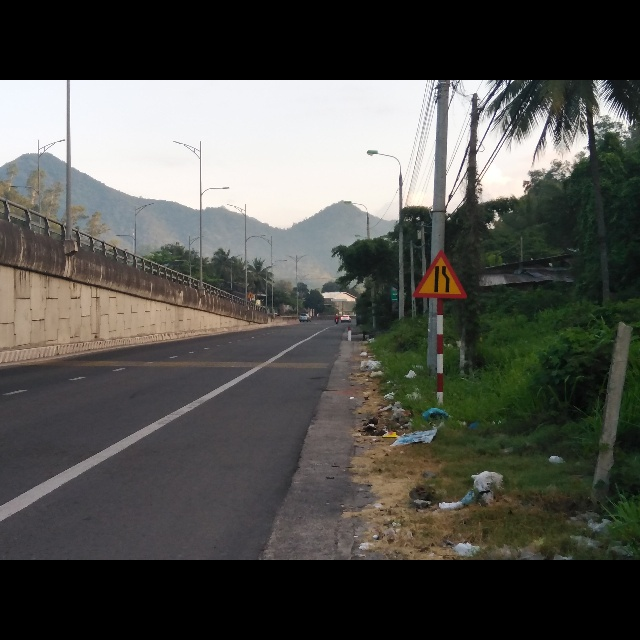Đường bị hẹp bên phải: (412, 251, 469, 299)
